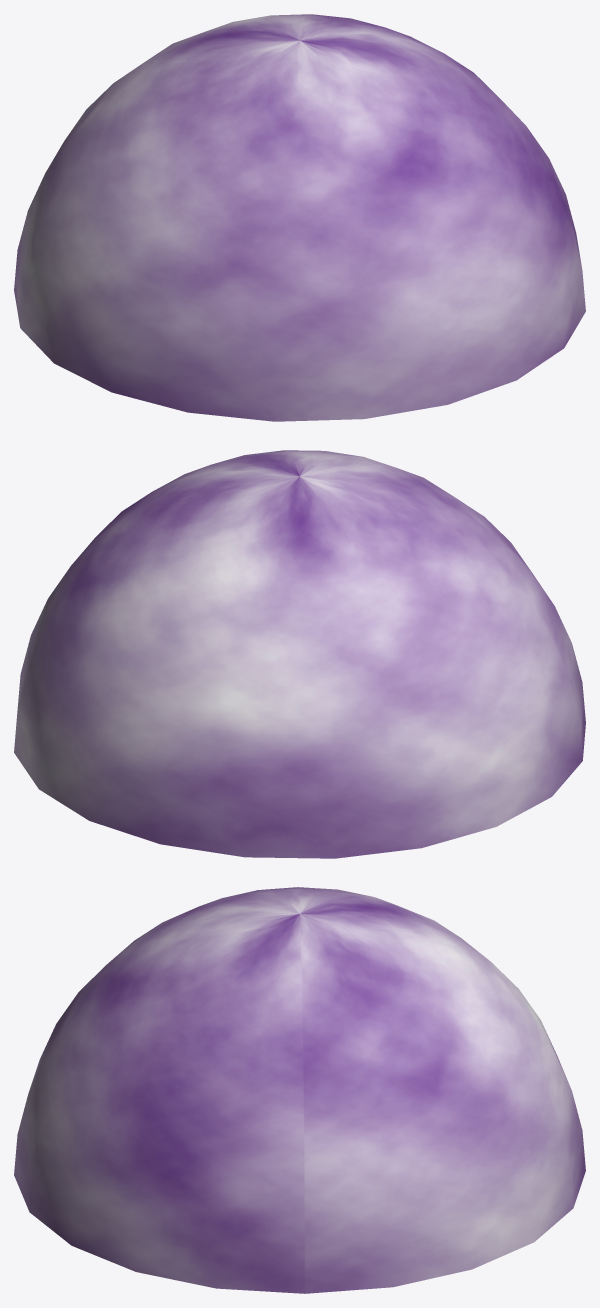
File: shield_model.fbx
3 renders of one model, top to bottom at view 1: azimuth 30°, elevation 25°; view 2: azimuth 150°, elevation 25°; view 3: azimuth 270°, elevation 25°, orthographic.
Parts seen in each view (by area): view 1: pSphere1; view 2: pSphere1; view 3: pSphere1.
Boxes of the visible parts, <box> form: pSphere1: <box>14,14,585,421</box>; pSphere1: <box>14,450,585,858</box>; pSphere1: <box>14,887,585,1293</box>.
Bounding box in the file's own units: 229 × 115 × 229.
Materials: 1 (1 with a texture image).
